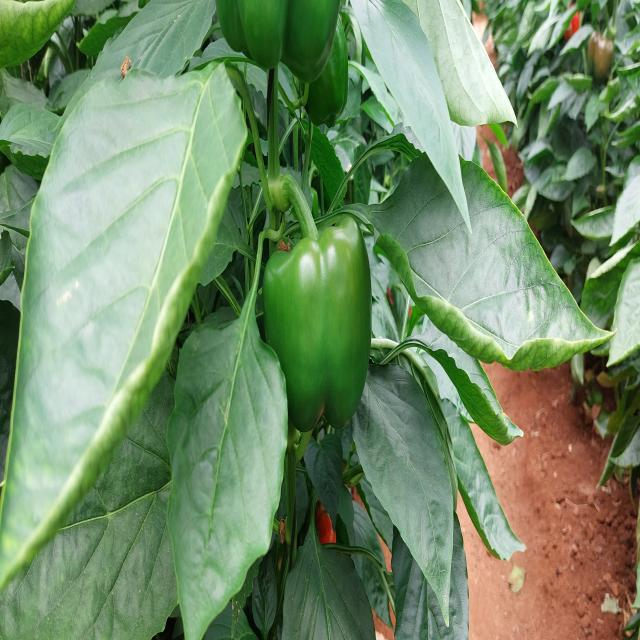Green--Not-ready-to-harvest: (268, 232, 374, 431), (216, 0, 358, 115)
